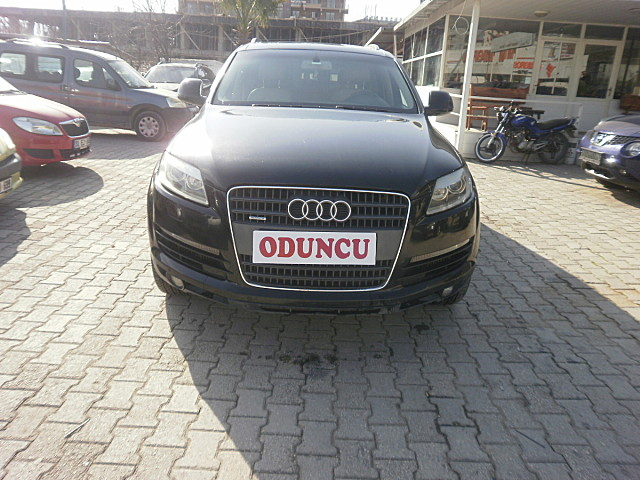audi: (279, 193, 355, 222)
